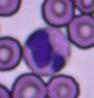N: (23, 27, 70, 76)
